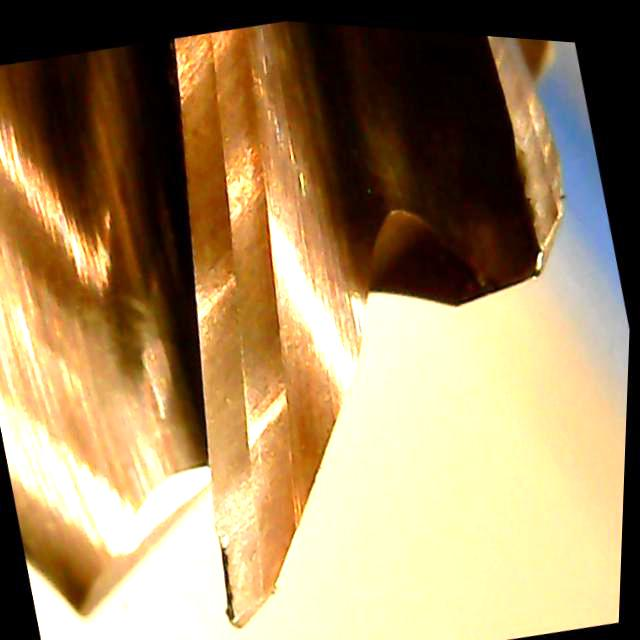Tool-wear-class-1: (148, 282, 361, 639)
